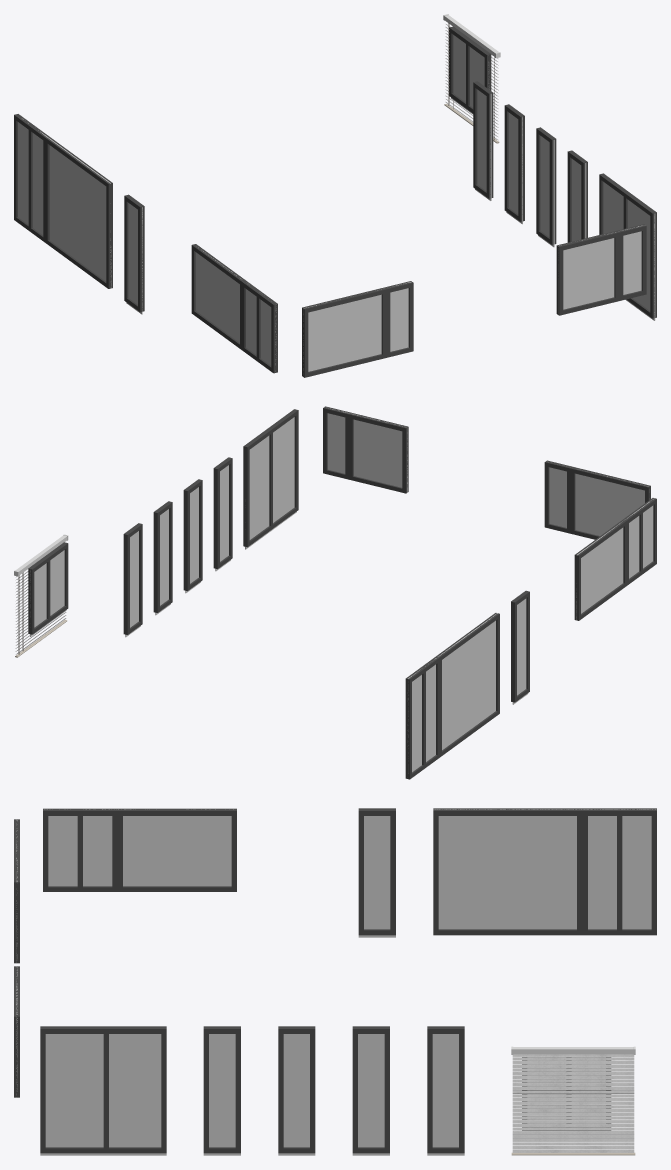
The model's file is Türen.001.glb.
3 renders of one model, top to bottom at view 1: azimuth 30°, elevation 25°; view 2: azimuth 150°, elevation 25°; view 3: azimuth 270°, elevation 25°, orthographic. The views are drawn at different scales.
Visible parts, largest first — view 1: TürElement.007, TürElement.010, TürElement.008, TürElement.009, a.004, a.005, Glas.002, Cut_BreakfastOffice.001, Cut-Office.011, Bad.008, Raffstores.001, Cut-Office.003 (+1 smaller); view 2: TürElement.007, TürElement.008, TürElement.009, TürElement.010, a.004, Glas.002, a.005, Cut_BreakfastOffice.001, Bad.008, Raffstores.001, Bad.010, Cut-Office.011 (+1 smaller); view 3: TürElement.007, TürElement.009, Raffstores.001, Glas.002, a.005, a.004, Cut_BreakfastOffice.001, Cut-Office.003, Cut-Office.011, Bad.008, TürElement.010, TürElement.008 (+1 smaller).
Boxes of the visible parts, bbox=[...] form: TürElement.007: bbox=[14, 114, 112, 288]; TürElement.010: bbox=[302, 281, 413, 377]; TürElement.008: bbox=[556, 224, 646, 315]; TürElement.009: bbox=[191, 244, 277, 373]; a.004: bbox=[473, 81, 587, 244]; a.005: bbox=[475, 89, 586, 247]; Glas.002: bbox=[603, 182, 655, 320]; Cut_BreakfastOffice.001: bbox=[599, 173, 656, 318]; Cut-Office.011: bbox=[124, 194, 144, 312]; Bad.008: bbox=[451, 35, 489, 114]; Raffstores.001: bbox=[443, 14, 500, 143]; Cut-Office.003: bbox=[126, 203, 142, 314]; TürElement.007: bbox=[405, 613, 499, 779]; TürElement.008: bbox=[323, 406, 408, 493]; TürElement.009: bbox=[574, 498, 656, 620]; TürElement.010: bbox=[544, 460, 650, 539]; a.004: bbox=[123, 457, 232, 634]; Glas.002: bbox=[245, 417, 296, 549]; a.005: bbox=[125, 465, 230, 637]; Cut_BreakfastOffice.001: bbox=[243, 409, 298, 547]; Bad.008: bbox=[30, 550, 66, 636]; Raffstores.001: bbox=[14, 534, 68, 657]; Bad.010: bbox=[28, 542, 68, 634]; Cut-Office.011: bbox=[511, 590, 529, 702]; TürElement.007: bbox=[433, 808, 656, 935]; TürElement.009: bbox=[43, 808, 236, 891]; Raffstores.001: bbox=[511, 1046, 635, 1155]; Glas.002: bbox=[40, 1034, 166, 1155]; a.005: bbox=[203, 1034, 464, 1155]; a.004: bbox=[203, 1026, 464, 1153]; Cut_BreakfastOffice.001: bbox=[40, 1026, 166, 1153]; Cut-Office.003: bbox=[358, 816, 395, 937]; Cut-Office.011: bbox=[358, 808, 395, 935]; Bad.008: bbox=[527, 1057, 605, 1123]; TürElement.010: bbox=[14, 819, 19, 963]; TürElement.008: bbox=[14, 966, 19, 1097].
Size of the model in its own units: 9.73 by 2.44 by 10.78.
Materials: 3 (1 with a texture image).
